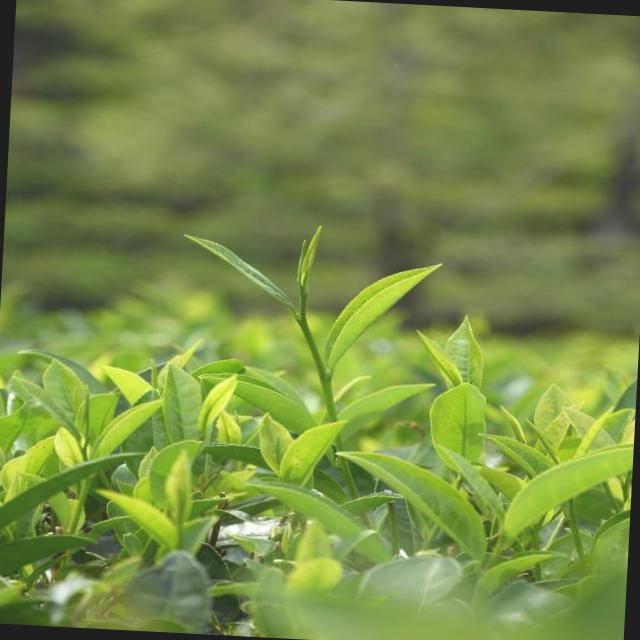Stem: (299, 320, 310, 333)
